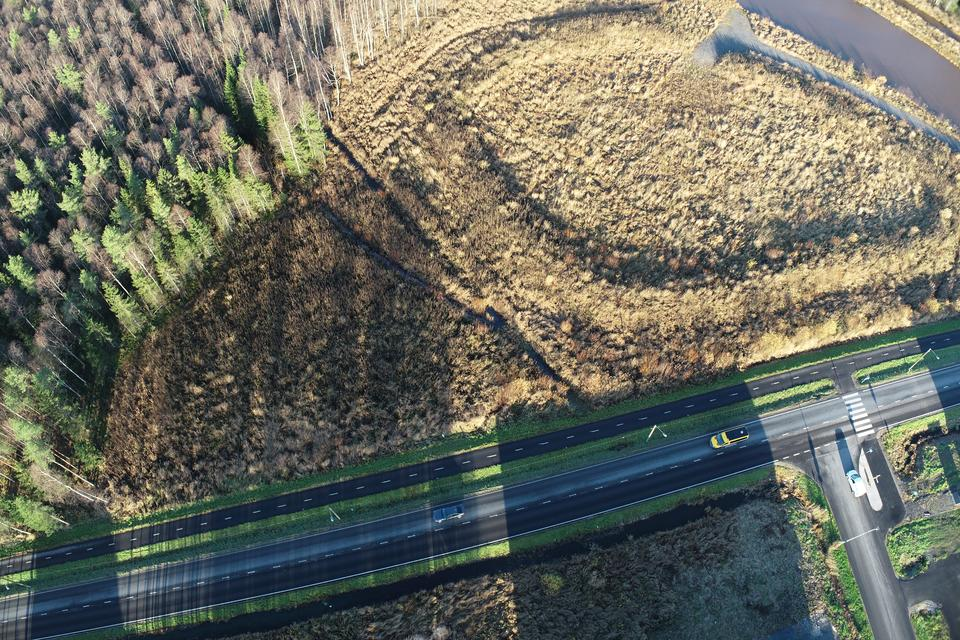intersection: (748, 333, 918, 538)
